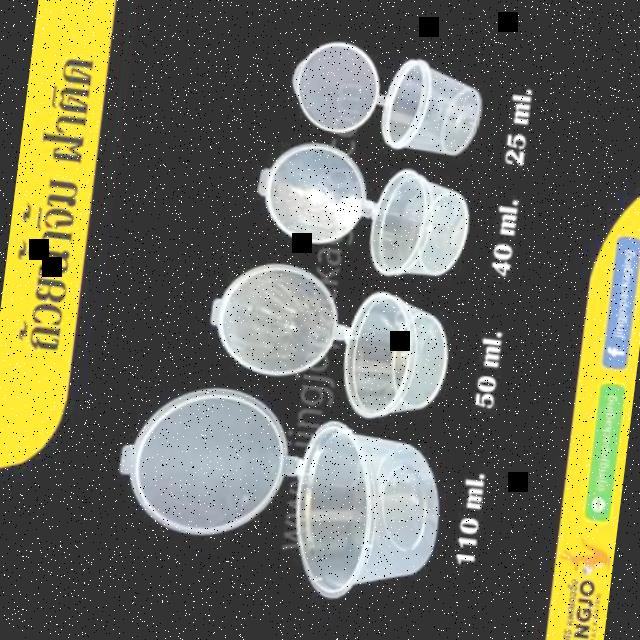plastic_box: (103, 376, 448, 612), (198, 257, 453, 425), (246, 134, 478, 284), (286, 38, 486, 160)
